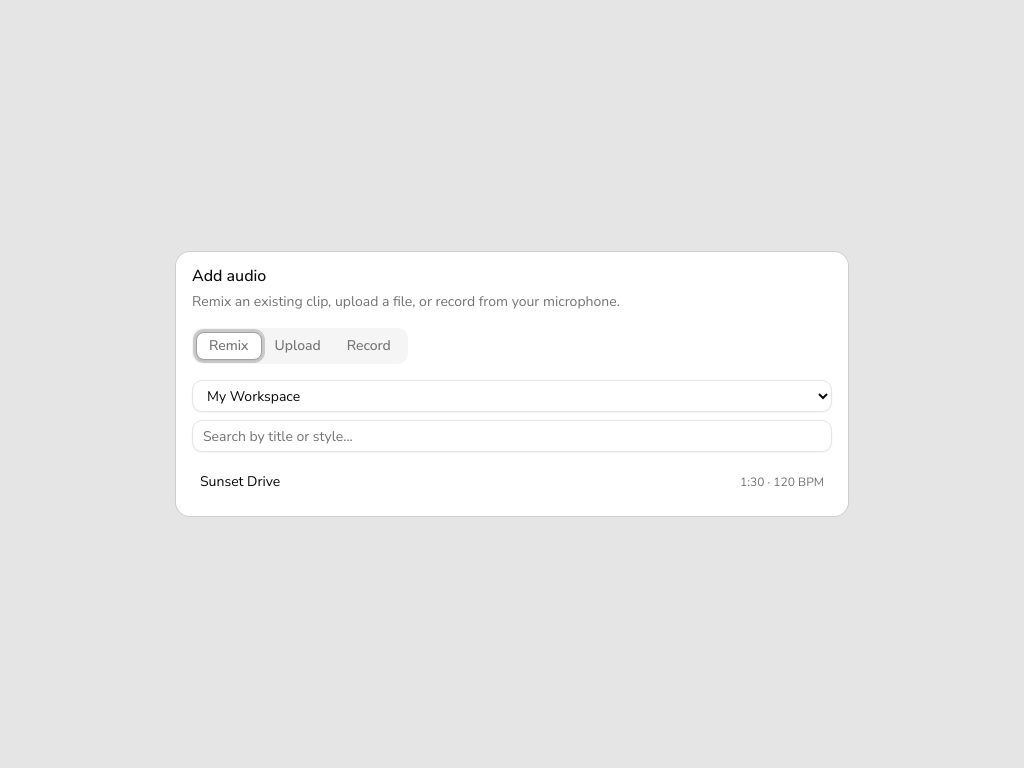
Scenario: AddAudioModal › shows a permission-denied message when the mic is blocked
Click the tab "Record" at (369, 346), box [334, 332, 404, 360]
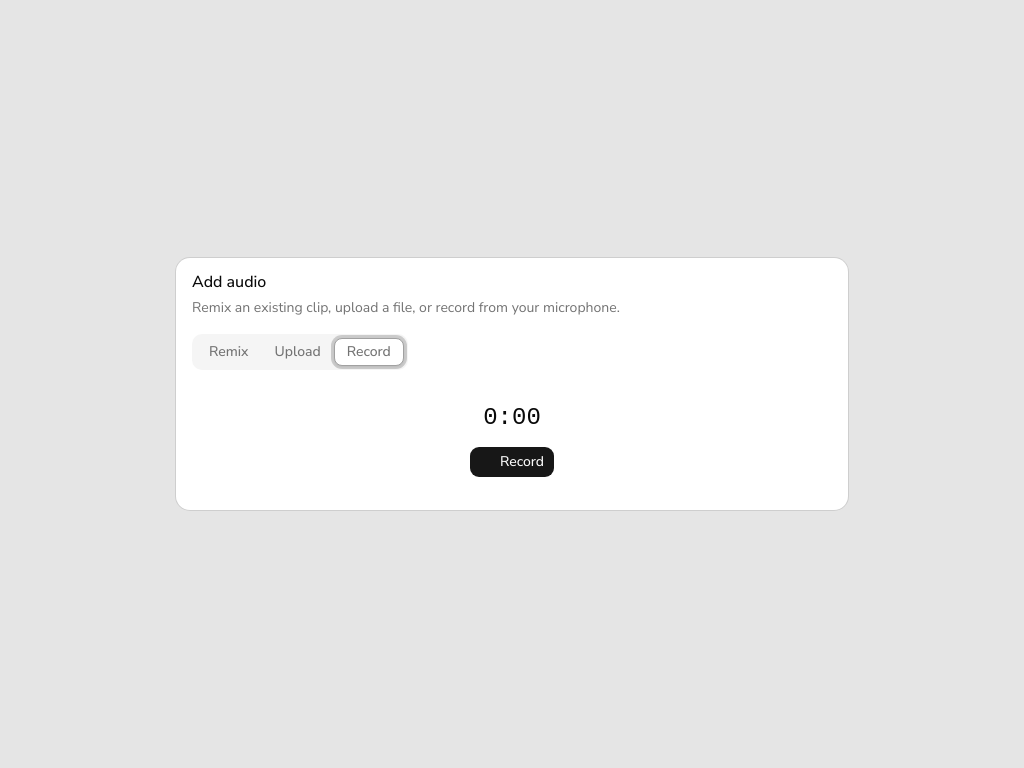
Click the button "Record" at (512, 462), box [469, 446, 555, 478]
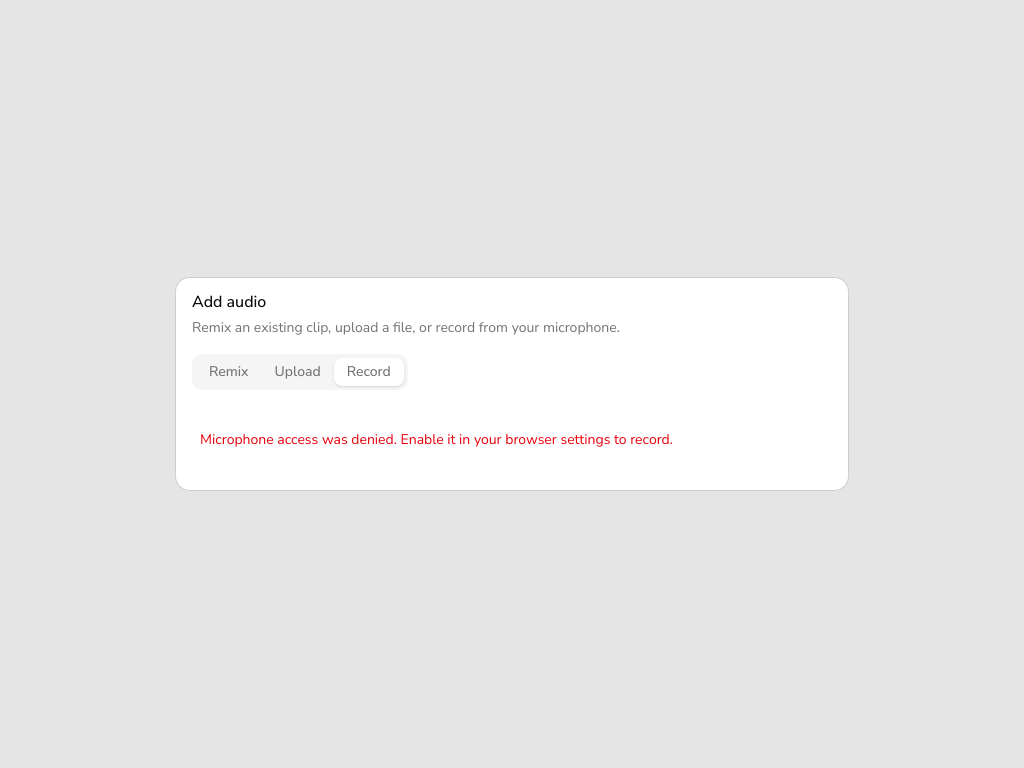
Result: the message shows "denied" at [200, 430, 673, 449]
